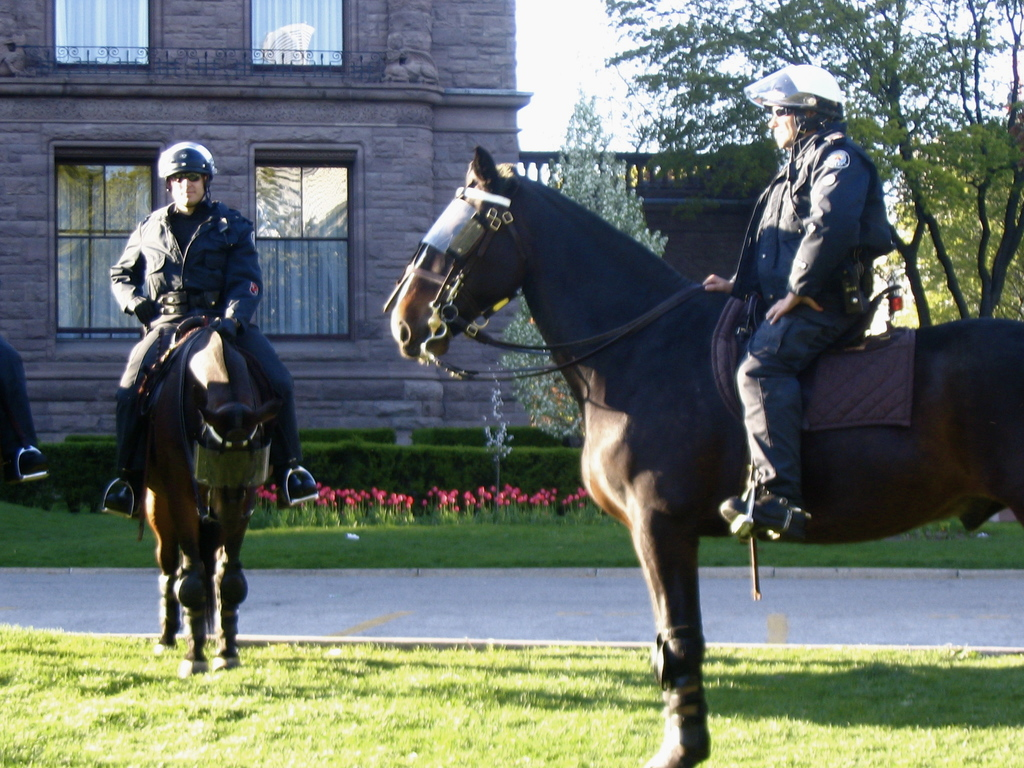Tree: (592, 0, 1024, 330), (499, 82, 666, 445)
